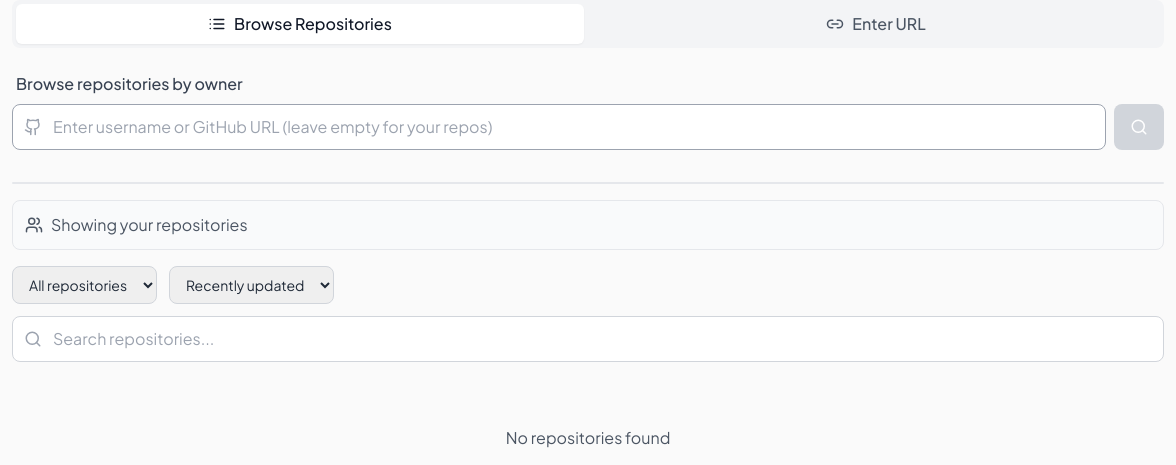
Test: GitHubRepoForm › mode switching › should switch to URL mode when Enter URL is clicked
Click the button "Enter URL": (876,24) [592,4,1160,44]
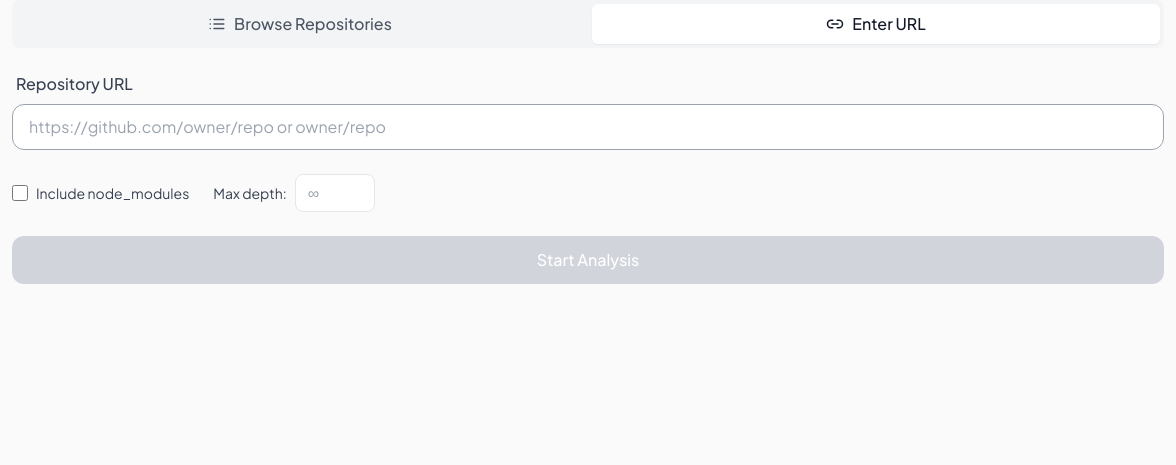
expect the field labelled "Repository URL" is shown: met, box [12,104,1164,150]
